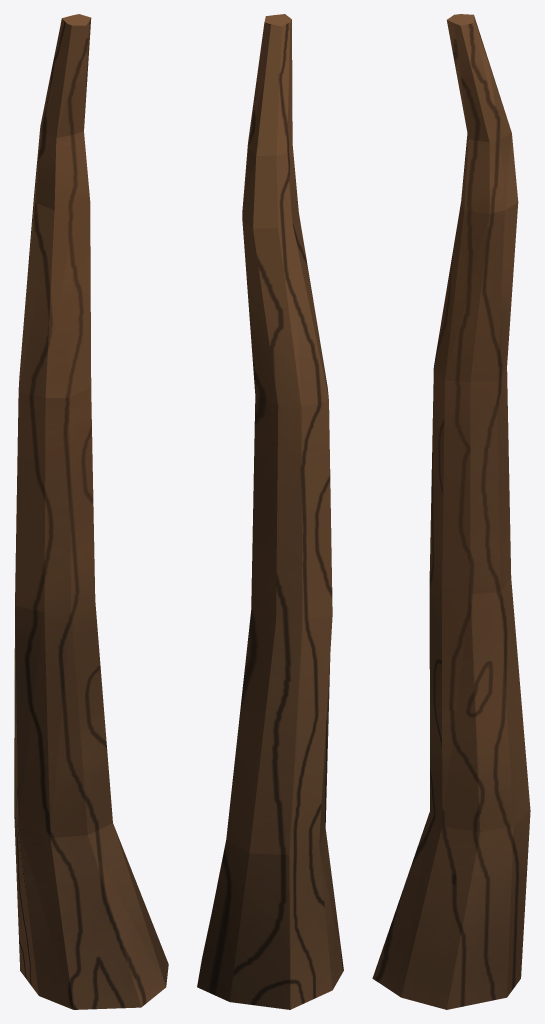
File: Tree-Trunk-1.fbx
The picture shows the model from 3 angles, left to right: view 1: azimuth 30°, elevation 25°; view 2: azimuth 150°, elevation 25°; view 3: azimuth 270°, elevation 25°; orthographic projection.
Visible parts, largest first — view 1: Tree-Trunk-1; view 2: Tree-Trunk-1; view 3: Tree-Trunk-1.
Part boxes in pixels (x1,y1,x2,y2): Tree-Trunk-1: [14, 14, 168, 1009]; Tree-Trunk-1: [197, 14, 343, 1009]; Tree-Trunk-1: [372, 14, 530, 1009].
Size of the model in its own units: 1548 by 10001 by 1508.
